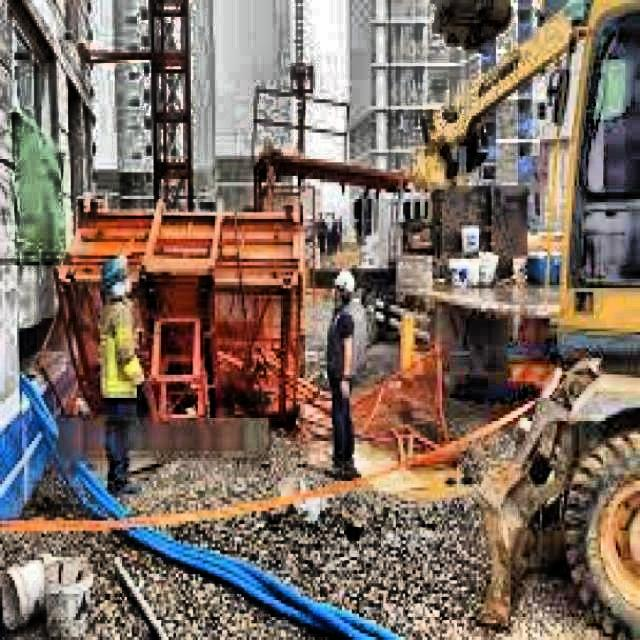bull_dozer/loader/grader: (353, 0, 640, 640)
person: (101, 259, 148, 497), (327, 268, 359, 482)
